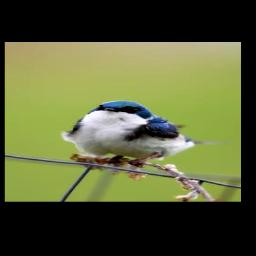Swallow: (59, 100, 232, 168)
